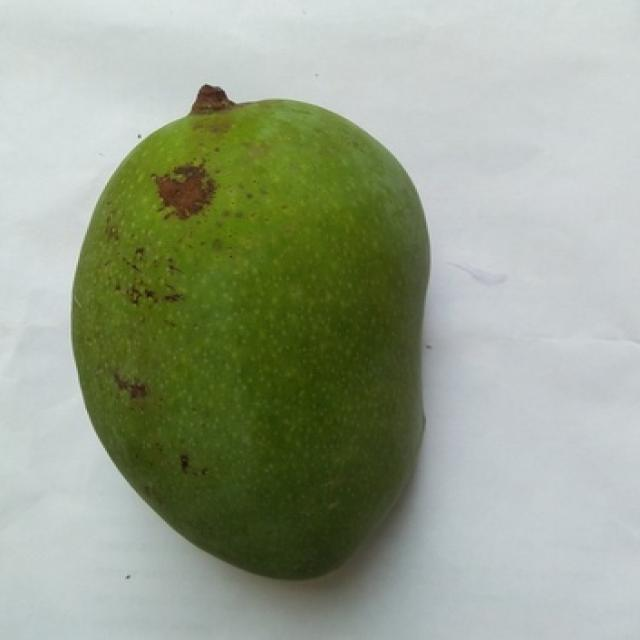Mango: (73, 86, 428, 577)
